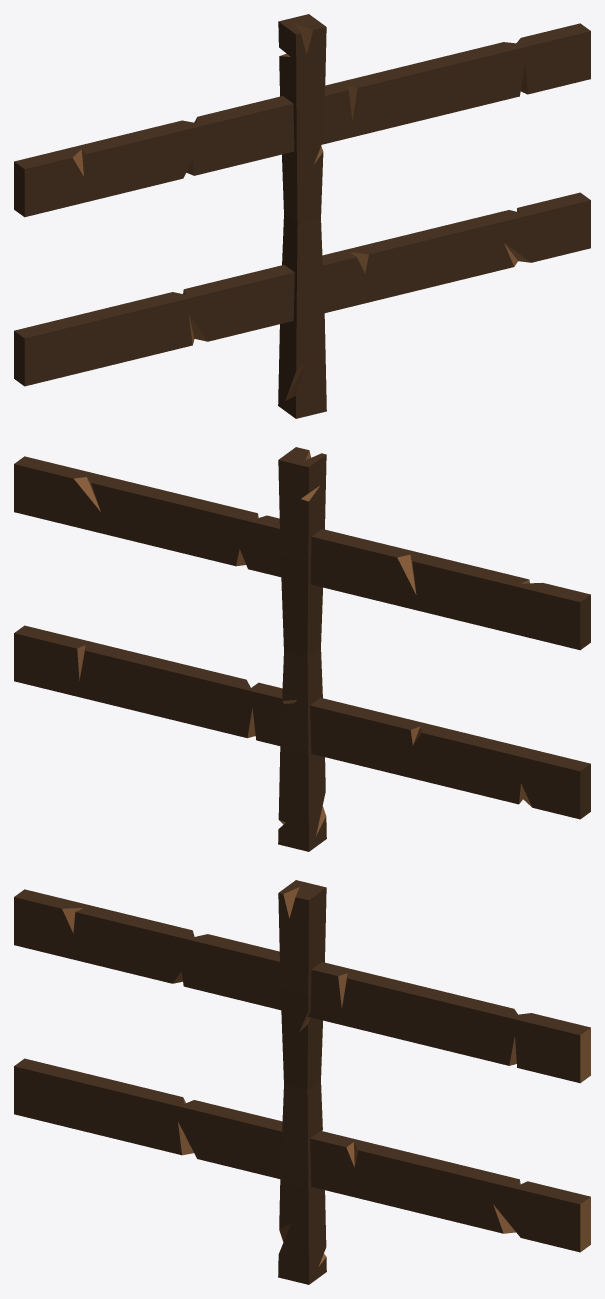
Rendered from Fence_3_Dark_Brown.fbx.
The picture shows the model from 3 angles, top to bottom: view 1: azimuth 30°, elevation 25°; view 2: azimuth 150°, elevation 25°; view 3: azimuth 330°, elevation 25°; orthographic projection.
Parts seen in each view (by area): view 1: Fence_3_Dark_Brown; view 2: Fence_3_Dark_Brown; view 3: Fence_3_Dark_Brown.
Boxes of the visible parts, x1,y1,x2,y2 form: Fence_3_Dark_Brown: (14,14,590,418); Fence_3_Dark_Brown: (14,447,590,851); Fence_3_Dark_Brown: (14,880,590,1284).
Size of the model in its own units: 185 by 120 by 10.09.
